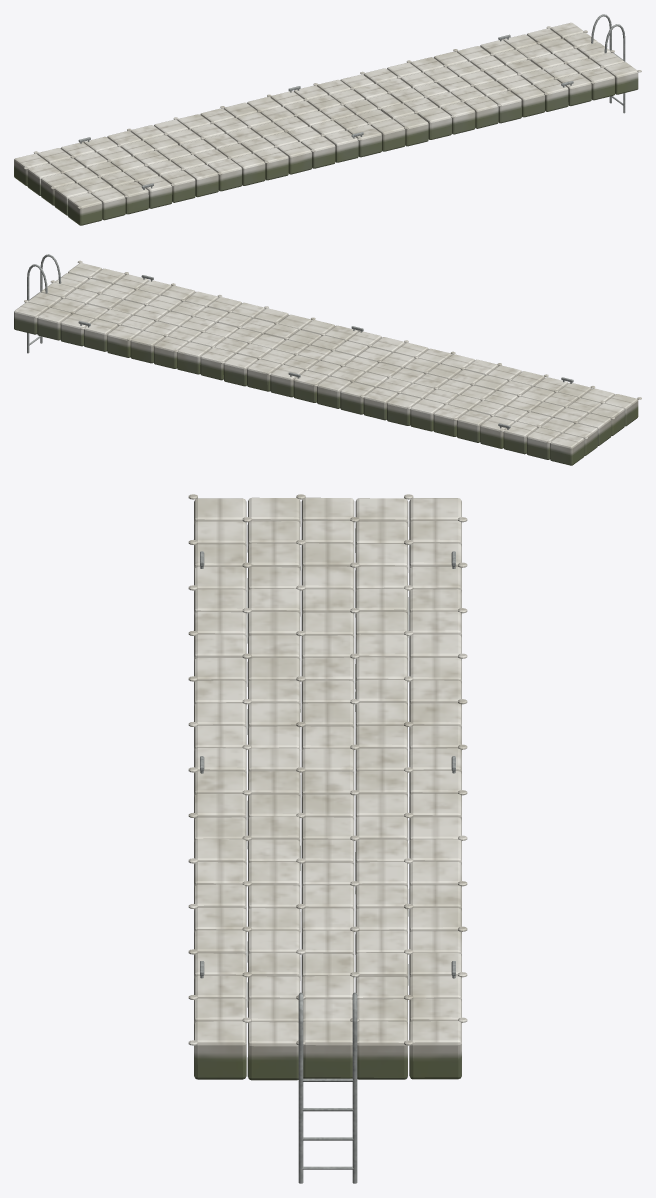
The model's file is FloatingPier.gltf.
3 renders of one model, top to bottom at view 1: azimuth 30°, elevation 25°; view 2: azimuth 150°, elevation 25°; view 3: azimuth 270°, elevation 25°, orthographic. The views are drawn at different scales.
Parts seen in each view (by area): view 1: FloatingPier; view 2: FloatingPier; view 3: FloatingPier.
Boxes of the visible parts, x1,y1,x2,y2 form: FloatingPier: [14, 14, 641, 225]; FloatingPier: [14, 254, 641, 465]; FloatingPier: [188, 494, 467, 1183].
Bounding box in the file's own units: 12.31 × 1.86 × 2.59.
Materials: 2 (2 with a texture image).
